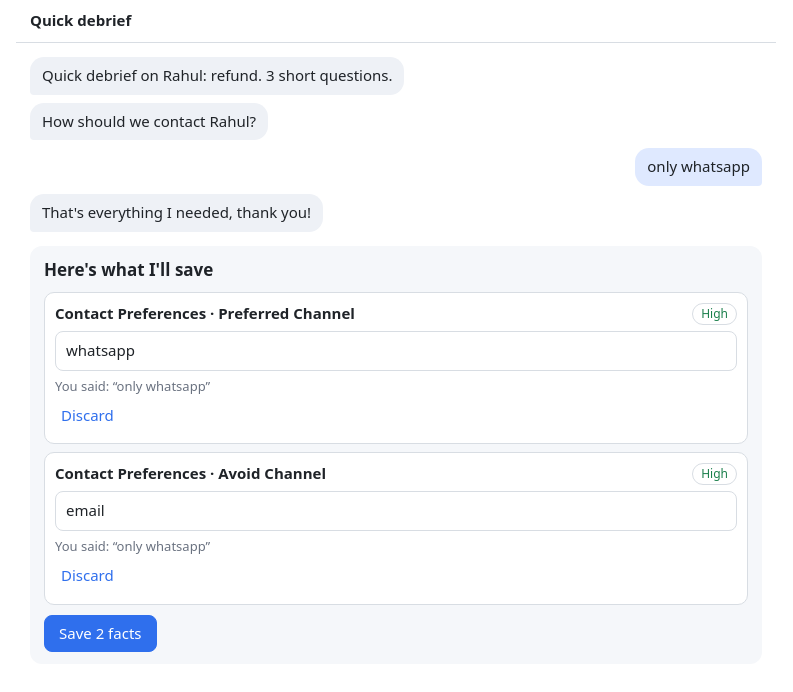
Test case: summary, review and save › refuses to save a kept fact whose value was emptied
Clear the field named "Value for preferred channel": (396, 351) [55,331,737,371]
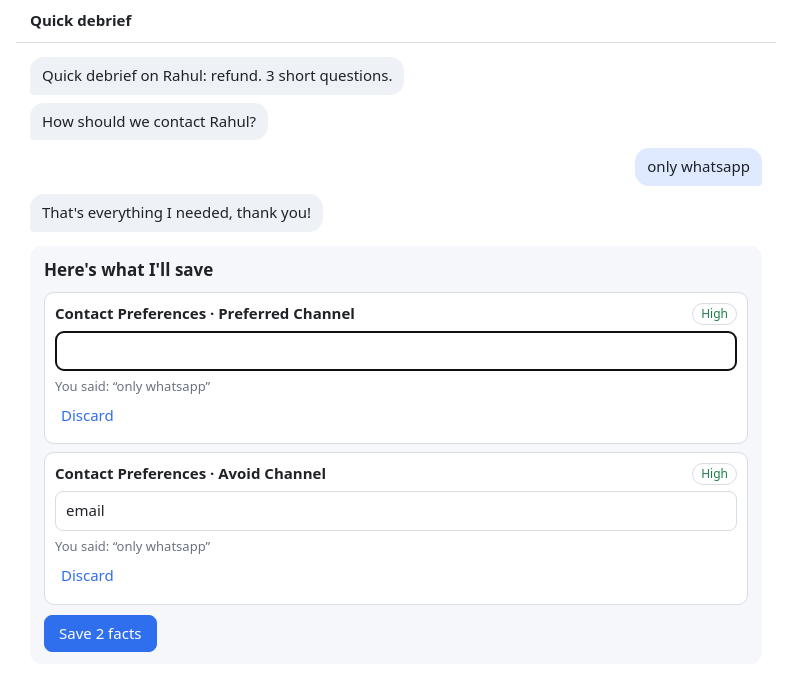
Click the button "Save 2 facts": (100, 634) [44,615,156,652]
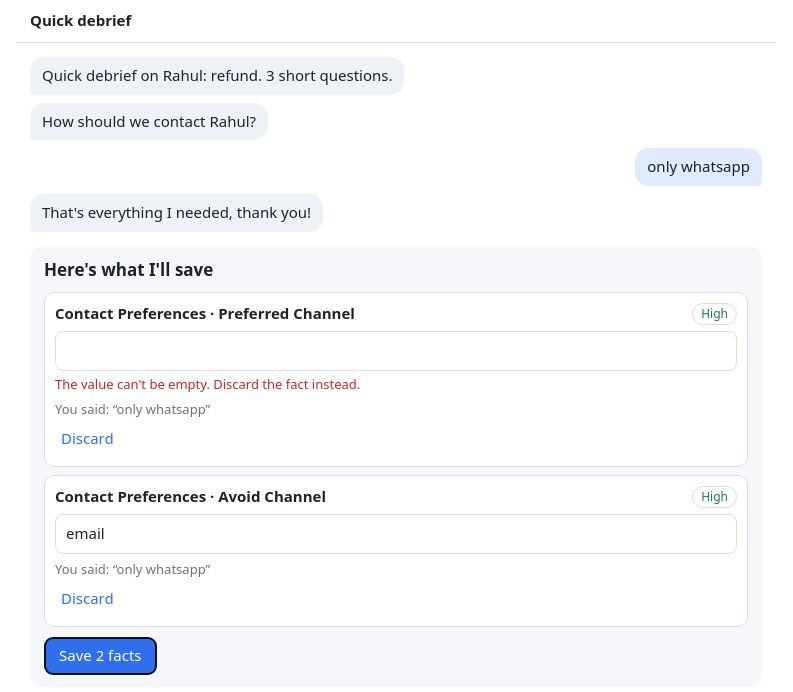
Expected: the text "The value can't be empty. Discard the fact instead." is shown, [55,375,360,393]
